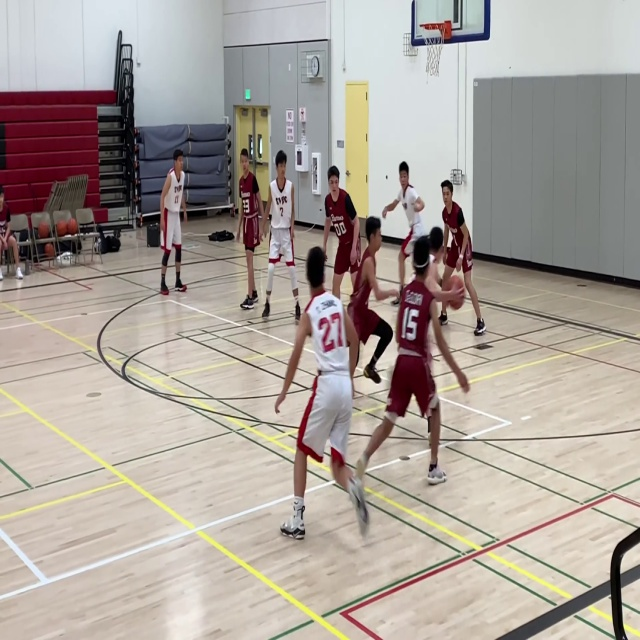Basketball: (444, 275, 465, 309), (55, 220, 67, 237), (38, 222, 50, 238), (67, 218, 78, 235), (44, 243, 55, 257)
